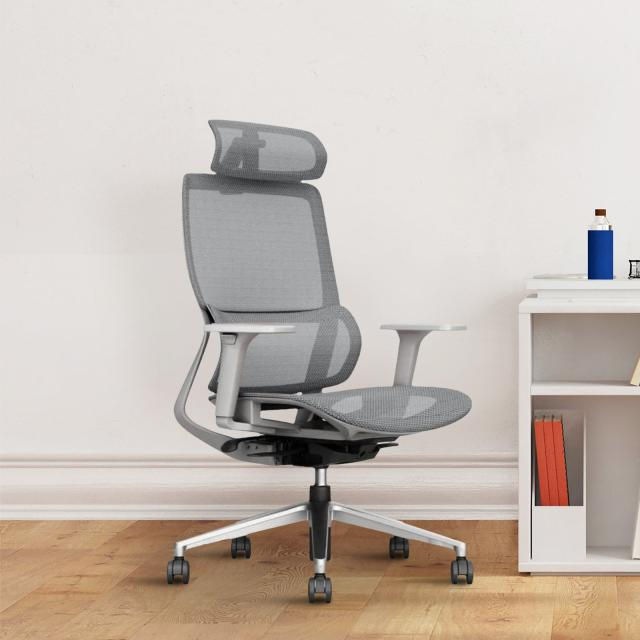chair: (166, 118, 474, 604)
